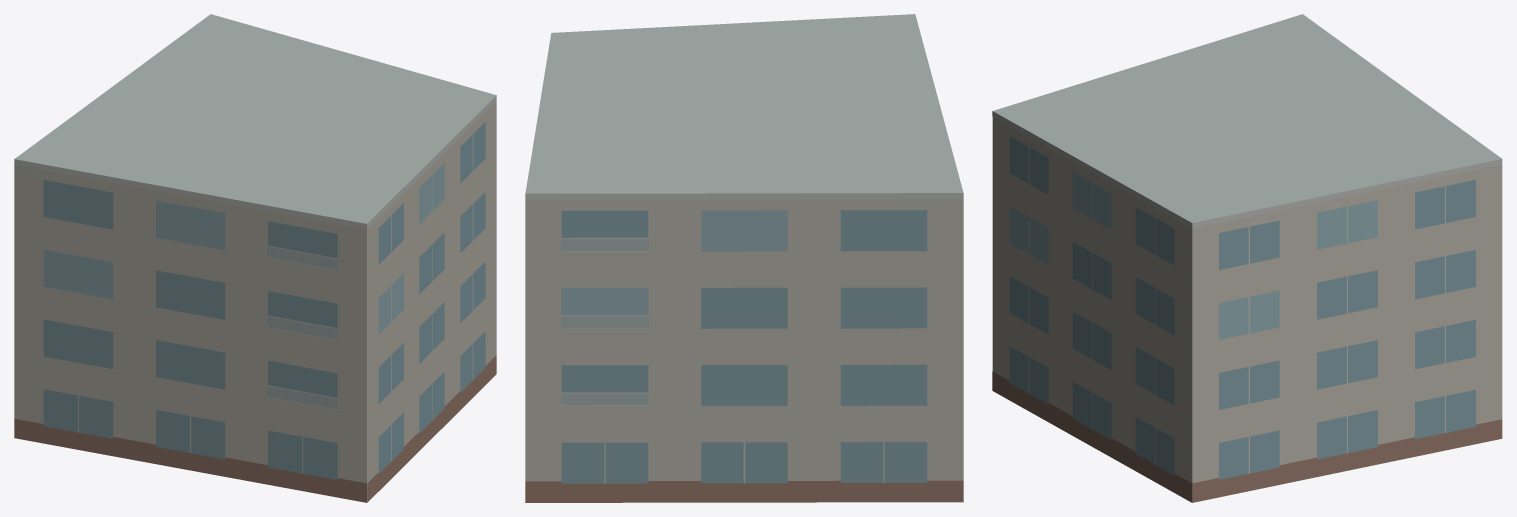
Rendered from residential-a9f801cf-6db9-42a3-868b-cee1303d4d02.glb.
3 renders of one model, left to right at view 1: azimuth 30°, elevation 25°; view 2: azimuth 150°, elevation 25°; view 3: azimuth 270°, elevation 25°, orthographic. The views are drawn at different scales.
Parts seen in each view (by area): view 1: residential-a9f801cf-6db9-42a3-868b-cee1303d4d02.tmp; view 2: residential-a9f801cf-6db9-42a3-868b-cee1303d4d02.tmp; view 3: residential-a9f801cf-6db9-42a3-868b-cee1303d4d02.tmp.
Boxes of the visible parts, box(x1,y1,x2,y2) form: residential-a9f801cf-6db9-42a3-868b-cee1303d4d02.tmp: box(14, 14, 496, 502); residential-a9f801cf-6db9-42a3-868b-cee1303d4d02.tmp: box(525, 14, 963, 502); residential-a9f801cf-6db9-42a3-868b-cee1303d4d02.tmp: box(992, 14, 1502, 502).
Bounding box in the file's own units: 19.56 × 12.2 × 20.16.
